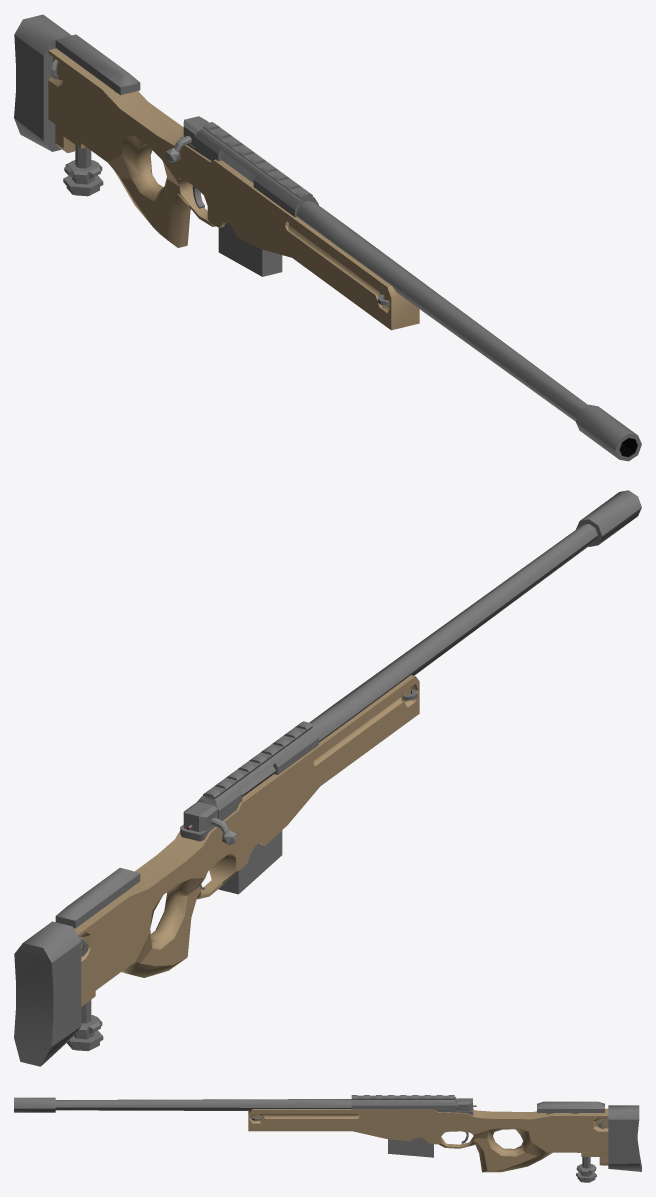
3 renders of one model, top to bottom at view 1: azimuth 30°, elevation 25°; view 2: azimuth 150°, elevation 25°; view 3: azimuth 270°, elevation 25°, orthographic. The views are drawn at different scales.
Parts seen in each view (by area): view 1: Cube.003, Cube.001, Cube, Cube.002; view 2: Cube.003, Cube.001, Cube.002, Cube; view 3: Cube.003, Cube.001, Cube, Cube.002.
Boxes of the visible parts, <box> form: Cube.003: <box>14,14,641,461</box>; Cube.001: <box>218,223,282,276</box>; Cube: <box>63,145,103,196</box>; Cube.002: <box>183,116,255,182</box>; Cube.003: <box>14,490,641,1066</box>; Cube.001: <box>218,830,282,894</box>; Cube.002: <box>183,765,275,831</box>; Cube: <box>67,1000,103,1050</box>; Cube.003: <box>14,1095,641,1172</box>; Cube.001: <box>388,1137,433,1157</box>; Cube: <box>576,1157,596,1182</box>; Cube.002: <box>456,1098,472,1111</box>.
Size of the model in its own units: 0.4374 by 1.26 by 8.49.
